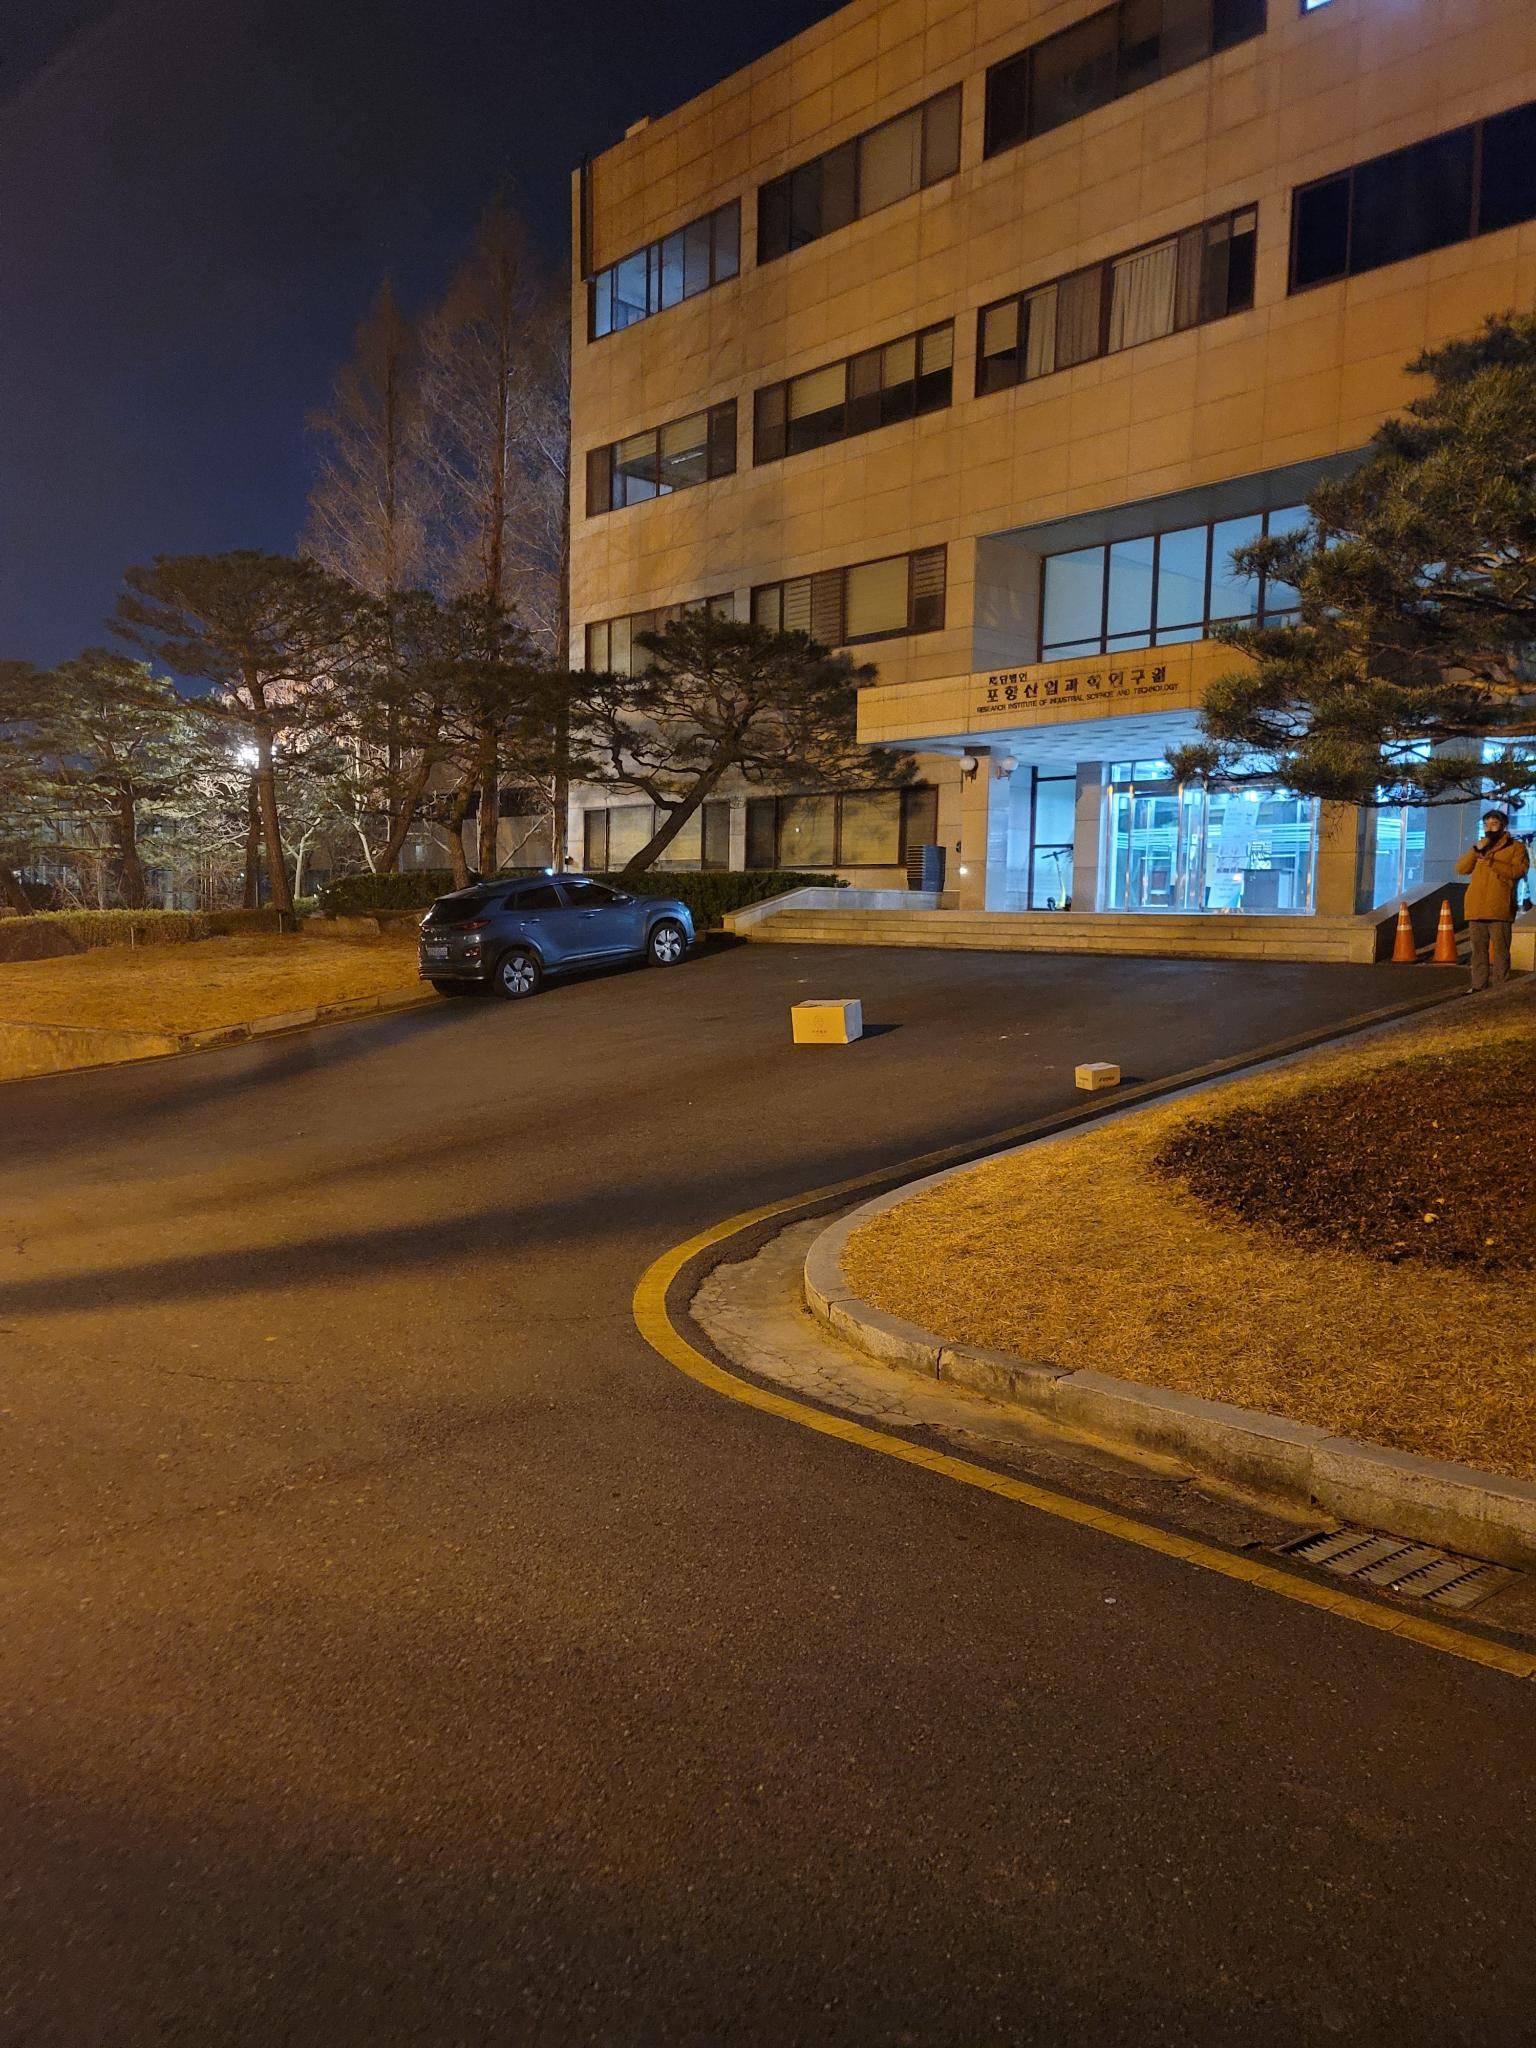Box: (774, 984, 884, 1056), (1071, 1053, 1118, 1087)
